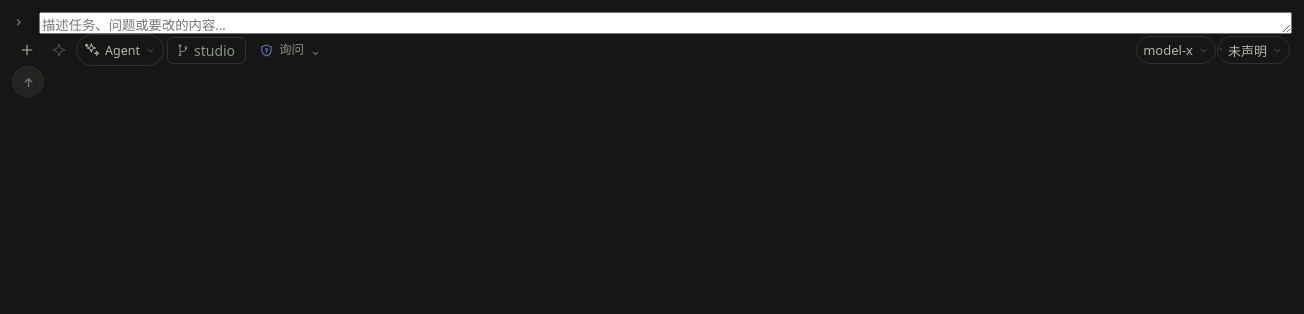
Test: the effort ladder follows the source › re-reads the ladder when its menu opens
Click the button with class "studio-effort-picker" at (1254, 50), box [1217,36,1290,64]
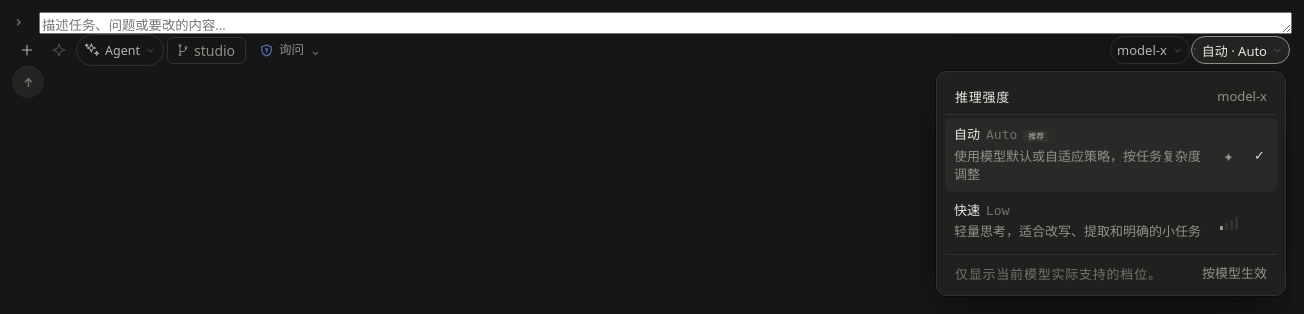
Expected: the button with class "studio-effort-picker" no longer shows "未声明"
